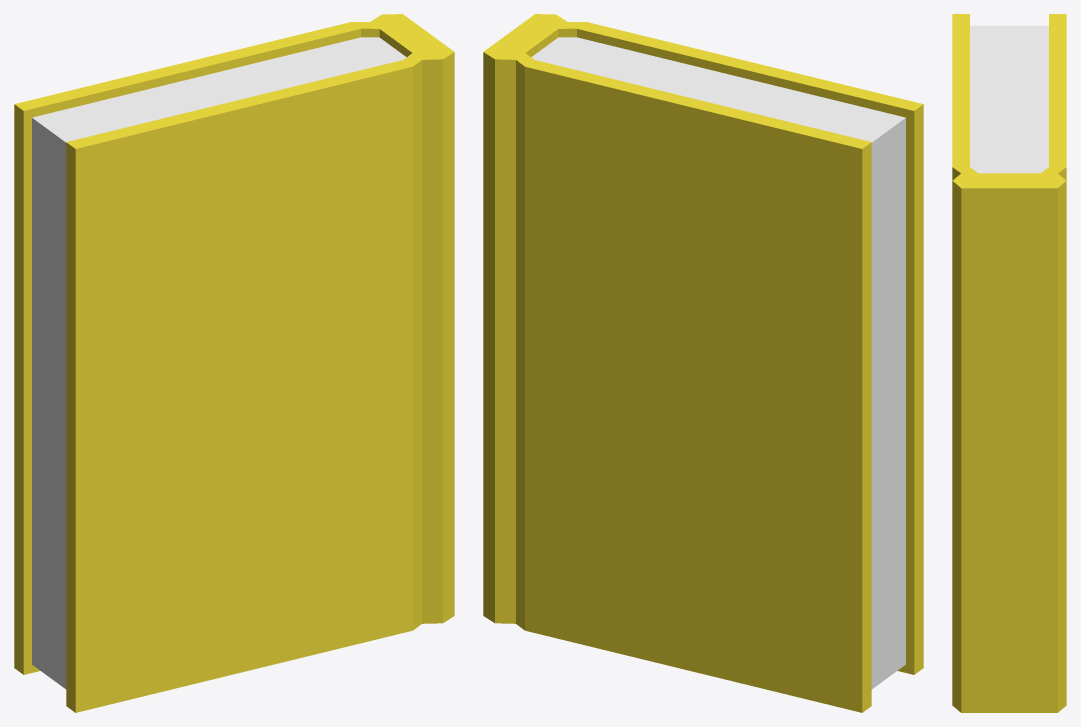
The model's file is book.glb.
3 views of the same model, side by side, from view 1: azimuth 30°, elevation 25°; view 2: azimuth 150°, elevation 25°; view 3: azimuth 270°, elevation 25° (orthographic). The views are drawn at different scales.
Parts seen in each view (by area): view 1: Node; view 2: Node; view 3: Node.
Part boxes in pixels (left/top/right/bottom): Node: left=14, top=14, right=454, bottom=712; Node: left=483, top=14, right=923, bottom=712; Node: left=952, top=14, right=1066, bottom=712.
Bounding box in the file's own units: 0.47 × 0.66 × 0.13.
